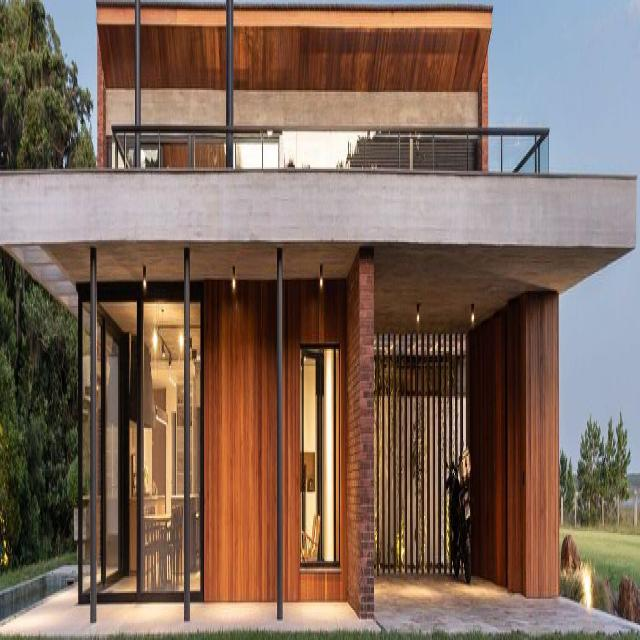door: (82, 288, 204, 600)
plant: (0, 252, 76, 567), (0, 0, 96, 160), (561, 414, 630, 525)
wall: (0, 4, 636, 630)
windows: (118, 126, 477, 175), (300, 357, 340, 566)
